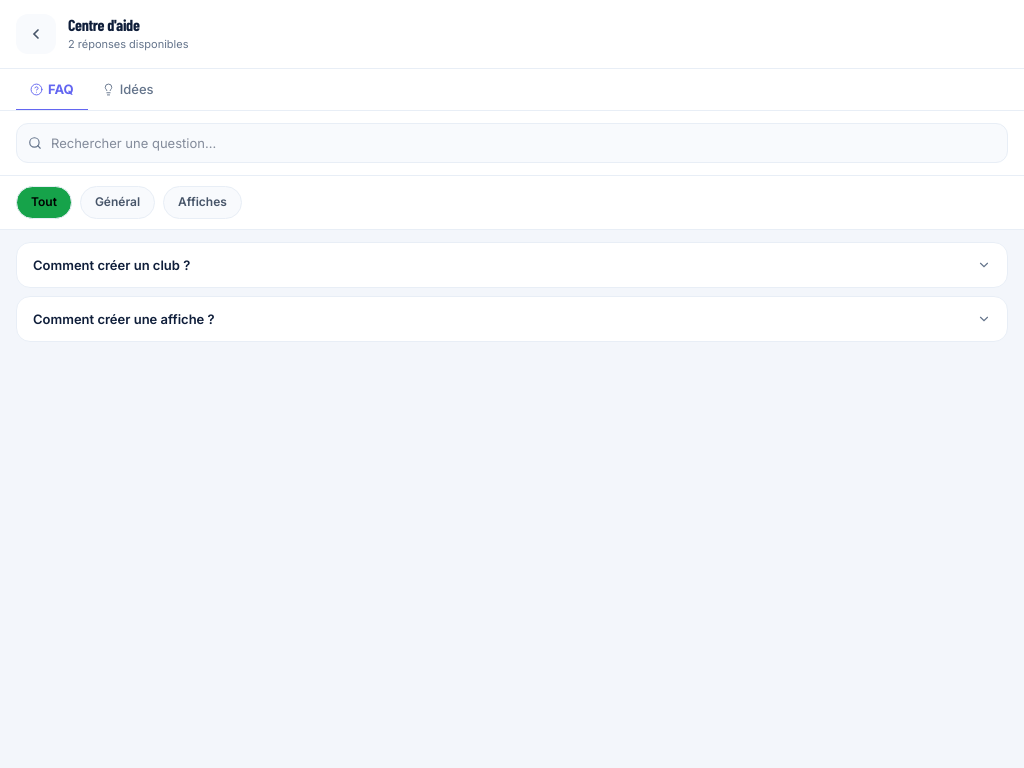
Test: HelpPage › affiche la réponse en cliquant sur une question
The width and height of the screenshot is (1024, 768).
Click the button "Comment créer un club ?".
click(112, 265)  # box [17,243,1007,287]
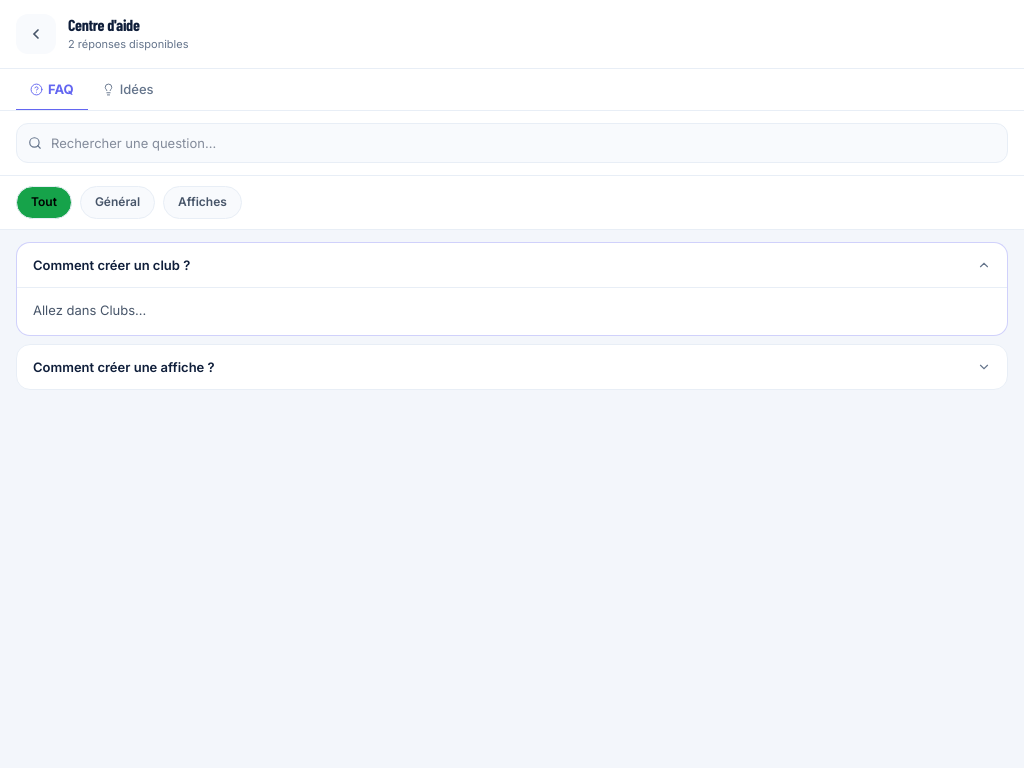
Expected: the text "Allez dans Clubs..." is shown, [33,302,146,318]
